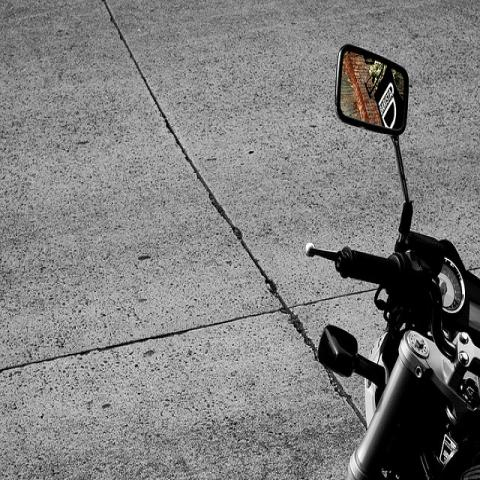motorcycle: (307, 41, 479, 477)
